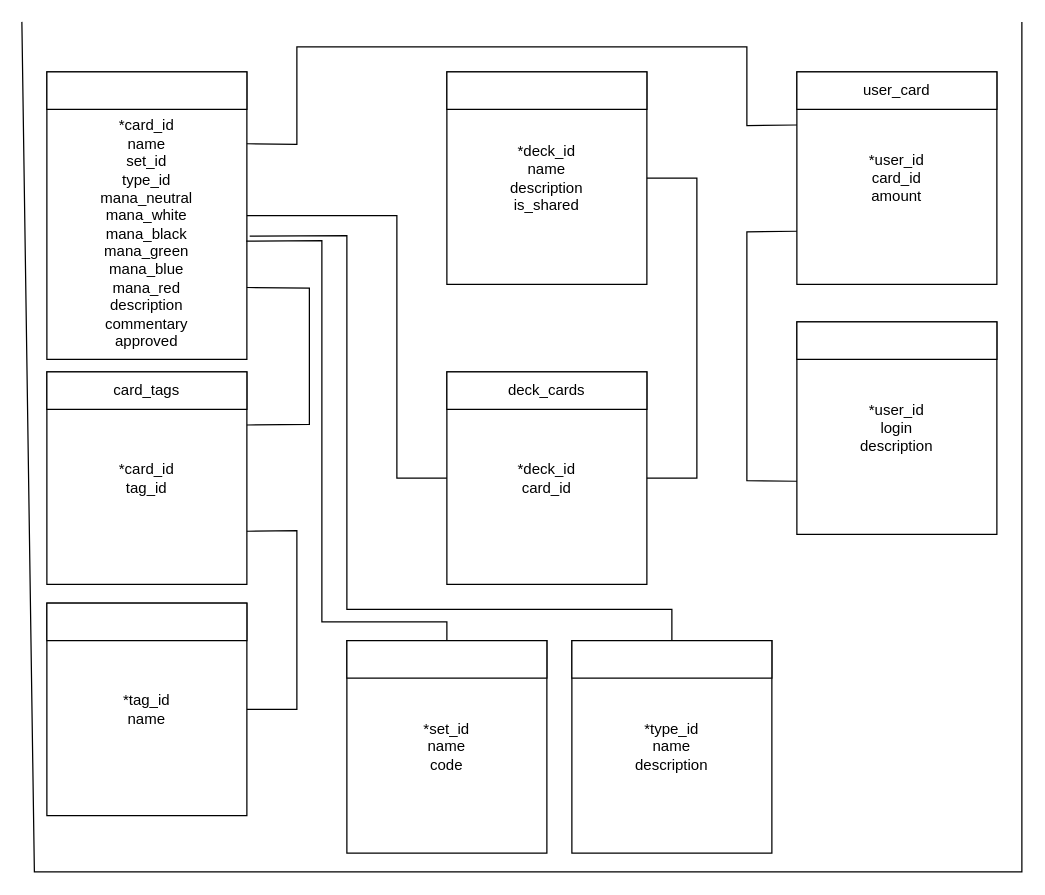
The diagram is 1045 pixels wide and 895 high, and some of its shapes have lost their labels. The centre of each missing label's shape, as x and y in pixels:
card: point 146,90
deck: point 546,90
set: point 446,658
tags: point 146,621
type: point 671,658
user: point 896,340
